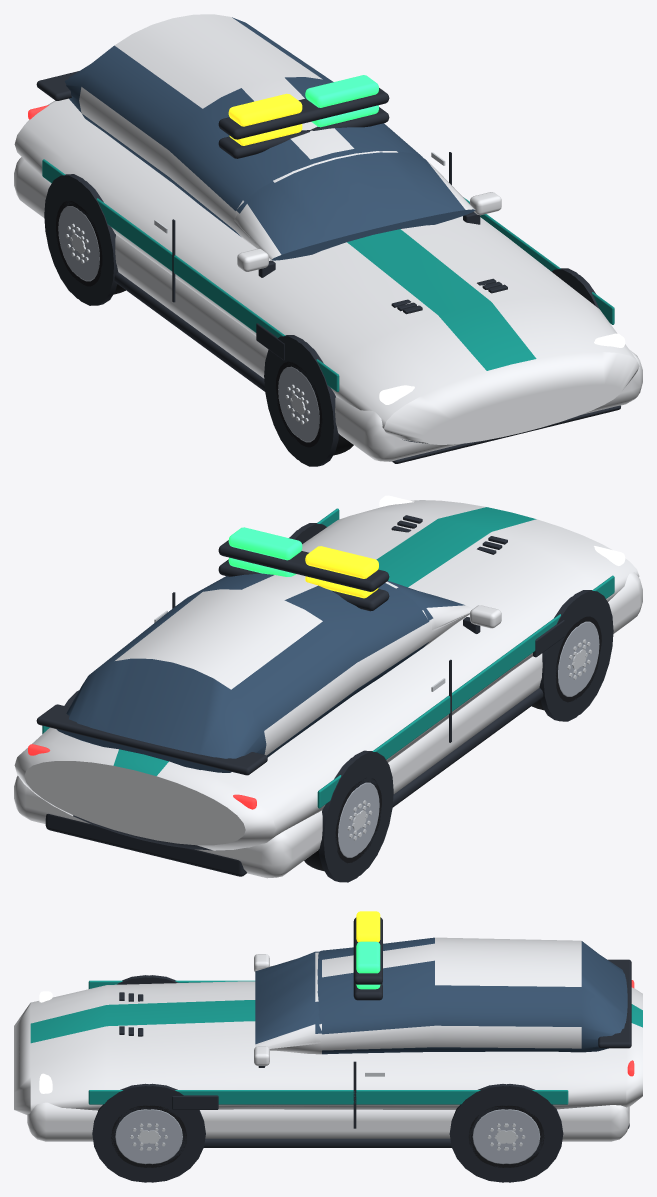
File: roadcars.glb
3 views of the same model, one above another, from view 1: azimuth 30°, elevation 25°; view 2: azimuth 150°, elevation 25°; view 3: azimuth 270°, elevation 25° (orthographic). The views are drawn at different scales.
Parts seen in each view (by area): view 1: medical_car_body, safety_car_body, medical_car_arch_rr_mesh, safety_car_arch_fr_mesh, medical_car_wheel_fr, safety_car_arch_rr_mesh, safety_car_wheel_rr, medical_car_arch_fr_mesh, medical_car_wheel_rr, medical_car_lightbar_amber, medical_car_lightbar_green, safety_car_wheel_fr; view 2: medical_car_body, safety_car_body, medical_car_arch_fr_mesh, medical_car_arch_rr_mesh, safety_car_arch_rr_mesh, safety_car_wheel_rr, medical_car_wheel_fr, medical_car_wheel_rr, medical_car_lightbar_green, medical_car_lightbar_amber, safety_car_wheel_fr, safety_car_arch_fr_mesh; view 3: medical_car_body, safety_car_body, medical_car_arch_rl_mesh, medical_car_arch_fl_mesh, safety_car_arch_rl_mesh, medical_car_wheel_rl, medical_car_wheel_fl, safety_car_arch_fl_mesh, safety_car_wheel_fl, safety_car_wheel_rl, medical_car_lightbar_green, medical_car_lightbar_amber.
Boxes of the visible parts, left/top/right/bottom form: medical_car_body: left=14, top=14, right=642, bottom=463; safety_car_body: left=23, top=71, right=475, bottom=426; medical_car_arch_rr_mesh: left=44, top=174, right=109, bottom=302; safety_car_arch_fr_mesh: left=264, top=335, right=326, bottom=463; medical_car_wheel_fr: left=282, top=365, right=353, bottom=455; safety_car_arch_rr_mesh: left=49, top=178, right=118, bottom=305; safety_car_wheel_rr: left=63, top=204, right=125, bottom=294; medical_car_arch_fr_mesh: left=268, top=340, right=338, bottom=466; medical_car_wheel_rr: left=56, top=201, right=94, bottom=283; medical_car_lightbar_amber: left=228, top=93, right=302, bottom=126; medical_car_lightbar_green: left=305, top=75, right=378, bottom=107; safety_car_wheel_fr: left=276, top=361, right=314, bottom=438; medical_car_body: left=14, top=495, right=642, bottom=878; safety_car_body: left=36, top=559, right=633, bottom=844; medical_car_arch_fr_mesh: left=548, top=590, right=613, bottom=715; medical_car_arch_rr_mesh: left=319, top=757, right=389, bottom=882; safety_car_arch_rr_mesh: left=329, top=750, right=393, bottom=879; safety_car_wheel_rr: left=343, top=778, right=381, bottom=859; medical_car_wheel_fr: left=563, top=616, right=601, bottom=698; medical_car_wheel_rr: left=304, top=781, right=374, bottom=871; medical_car_lightbar_green: left=228, top=527, right=302, bottom=560; medical_car_lightbar_amber: left=305, top=546, right=378, bottom=578; safety_car_wheel_fr: left=532, top=620, right=594, bottom=710; safety_car_arch_fr_mesh: left=539, top=596, right=609, bottom=721; medical_car_body: left=14, top=917, right=642, bottom=1147; safety_car_body: left=56, top=951, right=631, bottom=1141; medical_car_arch_rl_mesh: left=456, top=1084, right=563, bottom=1182; medical_car_arch_fl_mesh: left=92, top=1083, right=198, bottom=1182; safety_car_arch_rl_mesh: left=449, top=1084, right=555, bottom=1182; medical_car_wheel_rl: left=480, top=1105, right=544, bottom=1167; medical_car_wheel_fl: left=111, top=1105, right=174, bottom=1167; safety_car_arch_fl_mesh: left=100, top=1083, right=205, bottom=1182; safety_car_wheel_fl: left=123, top=1105, right=186, bottom=1167; safety_car_wheel_rl: left=468, top=1105, right=531, bottom=1167; medical_car_lightbar_green: left=356, top=941, right=380, bottom=973; medical_car_lightbar_amber: left=356, top=911, right=380, bottom=942.
Size of the model in its own units: 2 by 1.57 by 4.72.
